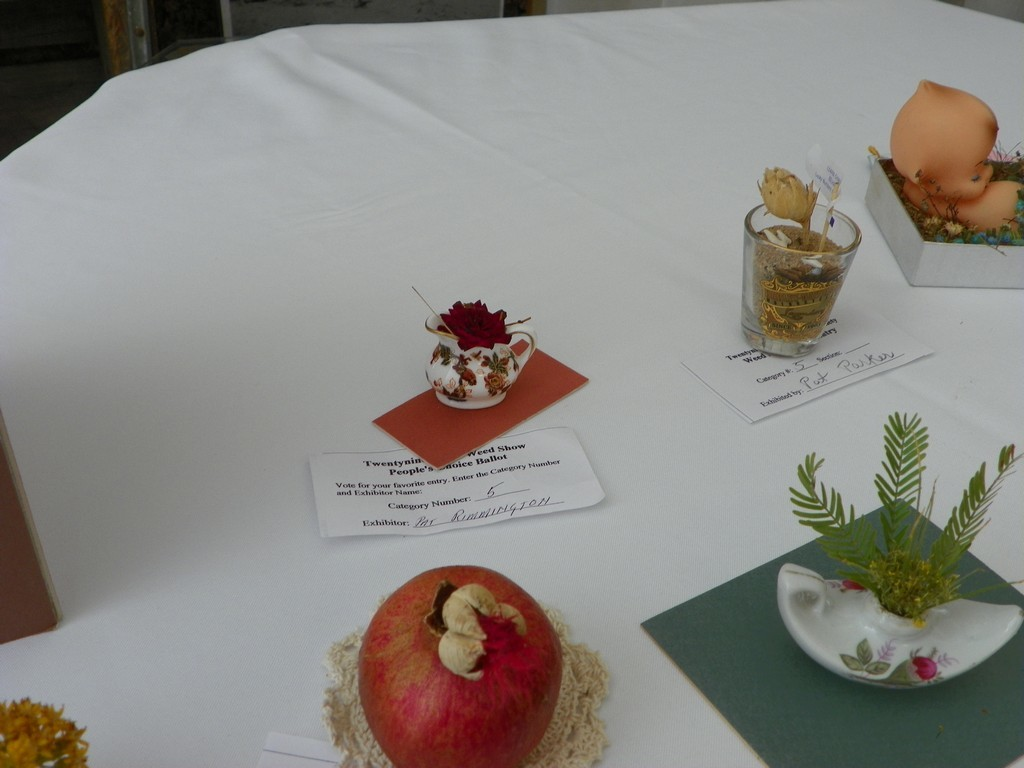Apple: (362, 561, 579, 767)
